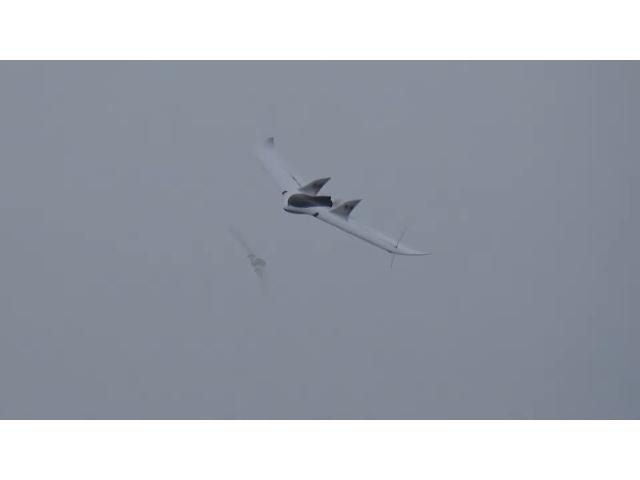Anti-Drone: (258, 136, 430, 255)
